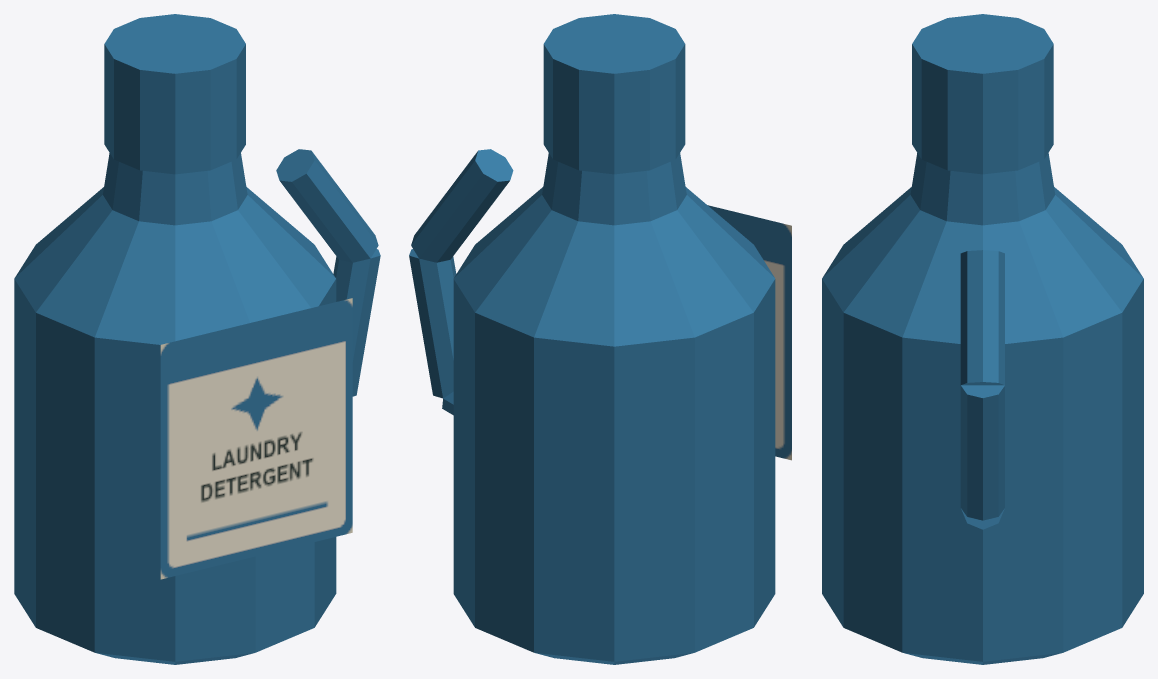
Rendered from laundry_detergent.fbx.
3 renders of one model, left to right at view 1: azimuth 30°, elevation 25°; view 2: azimuth 150°, elevation 25°; view 3: azimuth 270°, elevation 25°, orthographic.
Visible parts, largest first — view 1: laundry_detergent; view 2: laundry_detergent; view 3: laundry_detergent.
Boxes of the visible parts, box(x1,y1,x2,y2) form: laundry_detergent: box(14, 14, 380, 664); laundry_detergent: box(409, 14, 791, 664); laundry_detergent: box(822, 14, 1143, 664).
Bounding box in the file's own units: 21.38 × 34 × 17.5.
